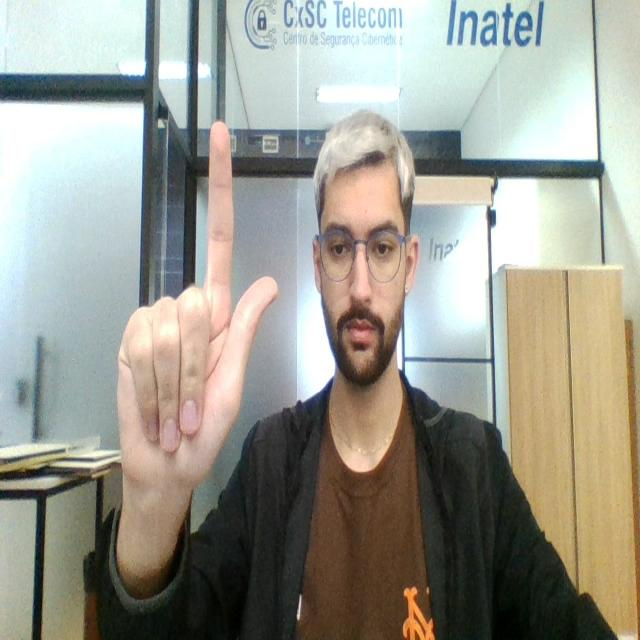G: (113, 119, 279, 482)
